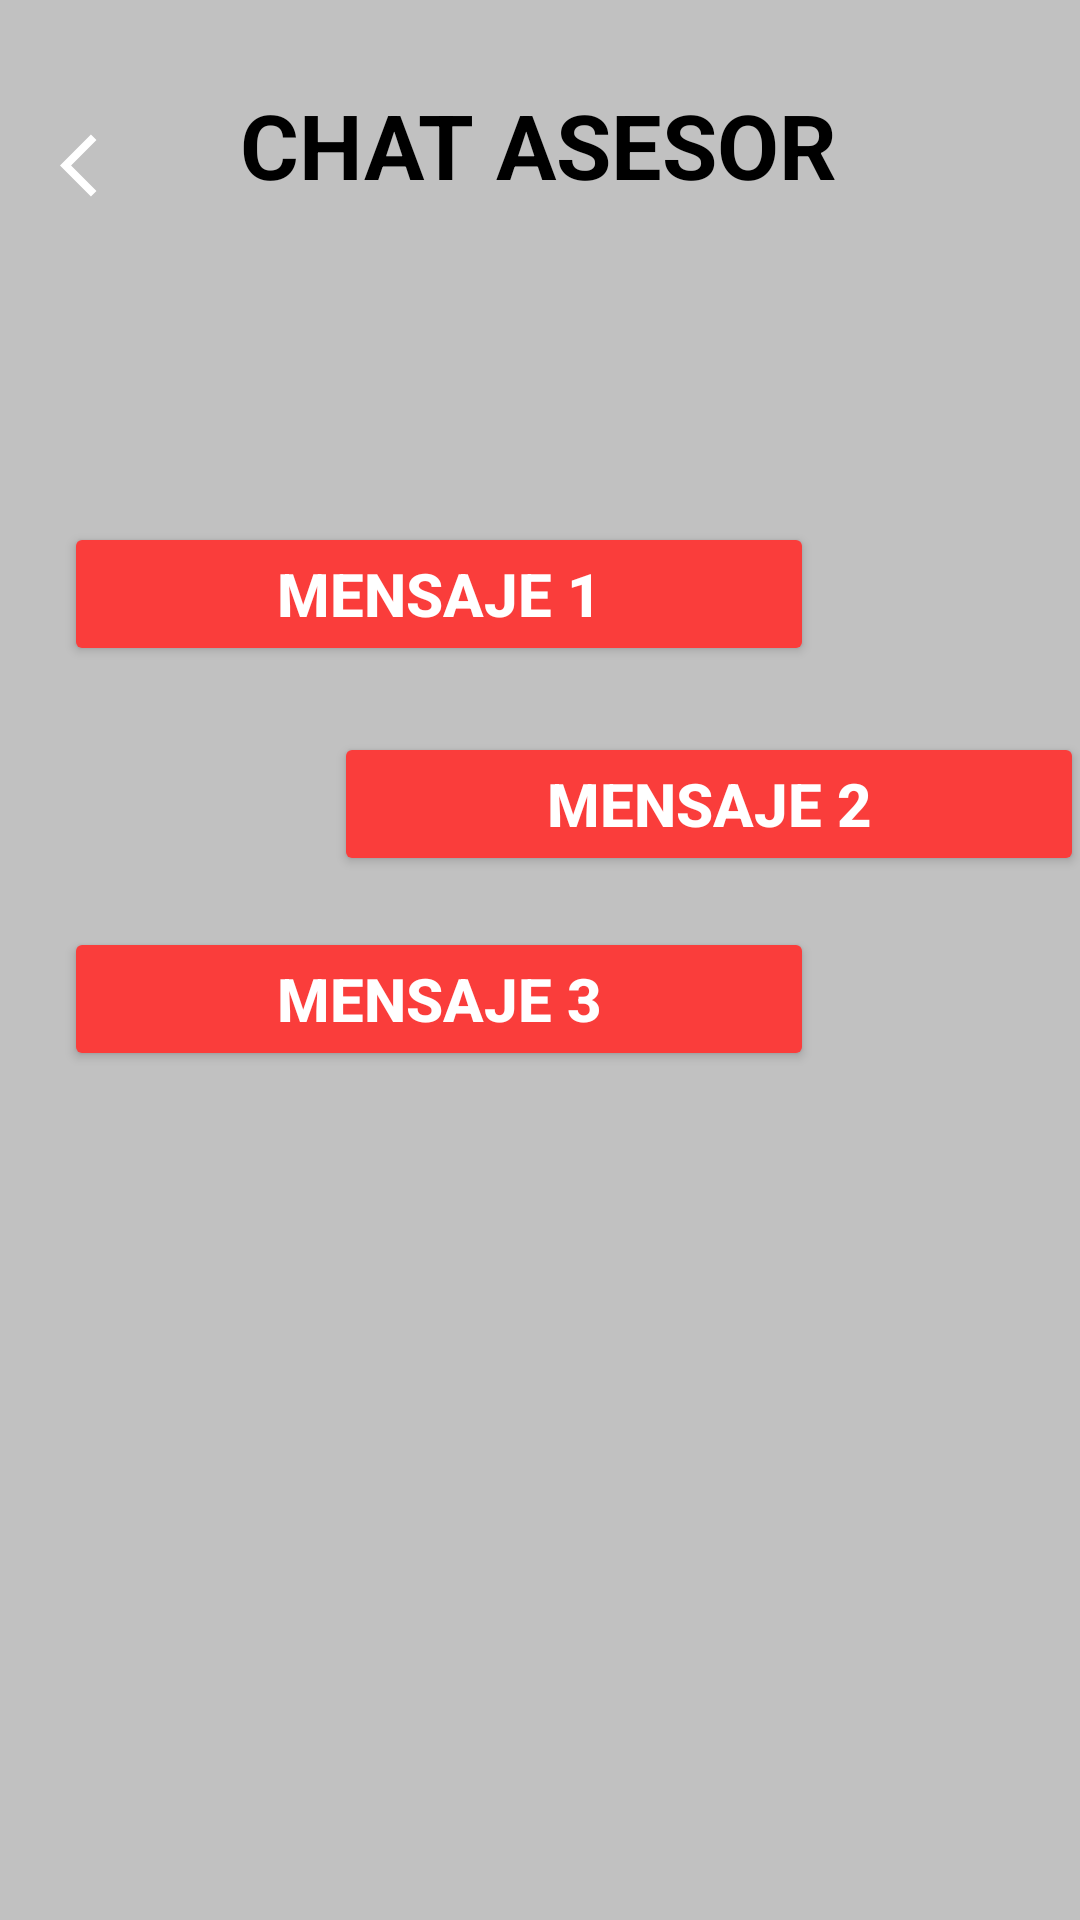

Icon click points for this 1080 × 1920 phone screenshot, format (x=x, y=y):
arrow back: (x=78, y=165)
